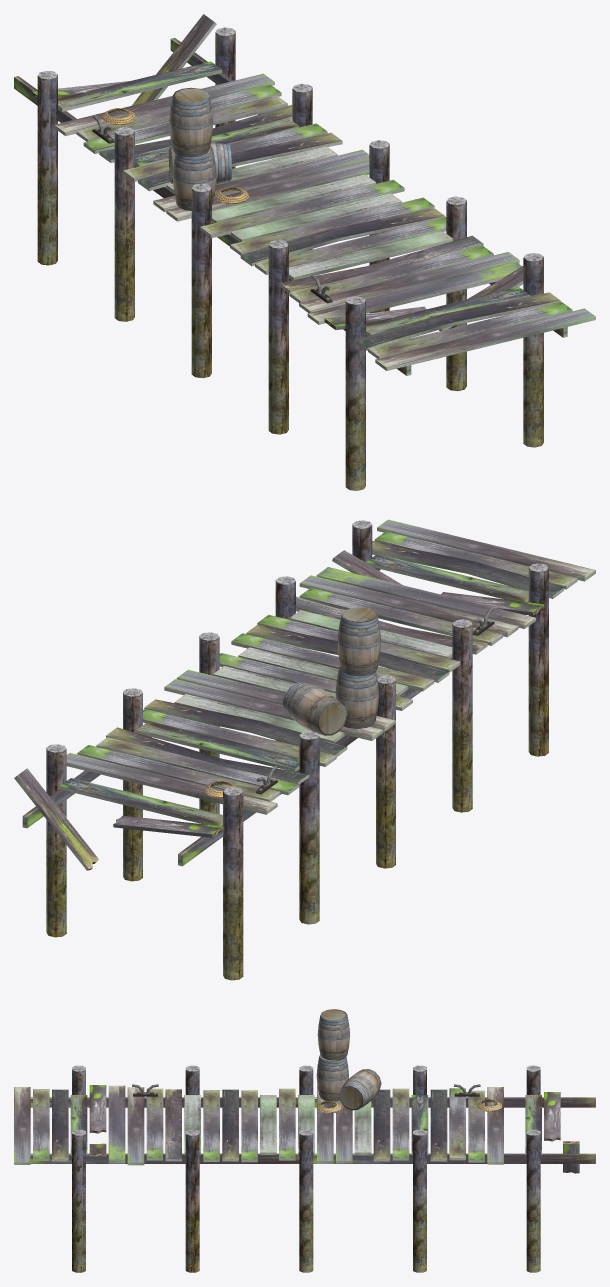
The model's file is mossy_pier.glb.
3 renders of one model, top to bottom at view 1: azimuth 30°, elevation 25°; view 2: azimuth 150°, elevation 25°; view 3: azimuth 270°, elevation 25°, orthographic. The views are drawn at different scales.
Parts seen in each view (by area): view 1: dock; view 2: dock; view 3: dock.
Boxes of the visible parts, <box> form: dock: <box>14,14,595,490</box>; dock: <box>14,519,595,980</box>; dock: <box>14,1009,595,1272</box>.
Bounding box in the file's own units: 2.89 × 3.39 × 9.22.
Materials: 1 (1 with a texture image).
